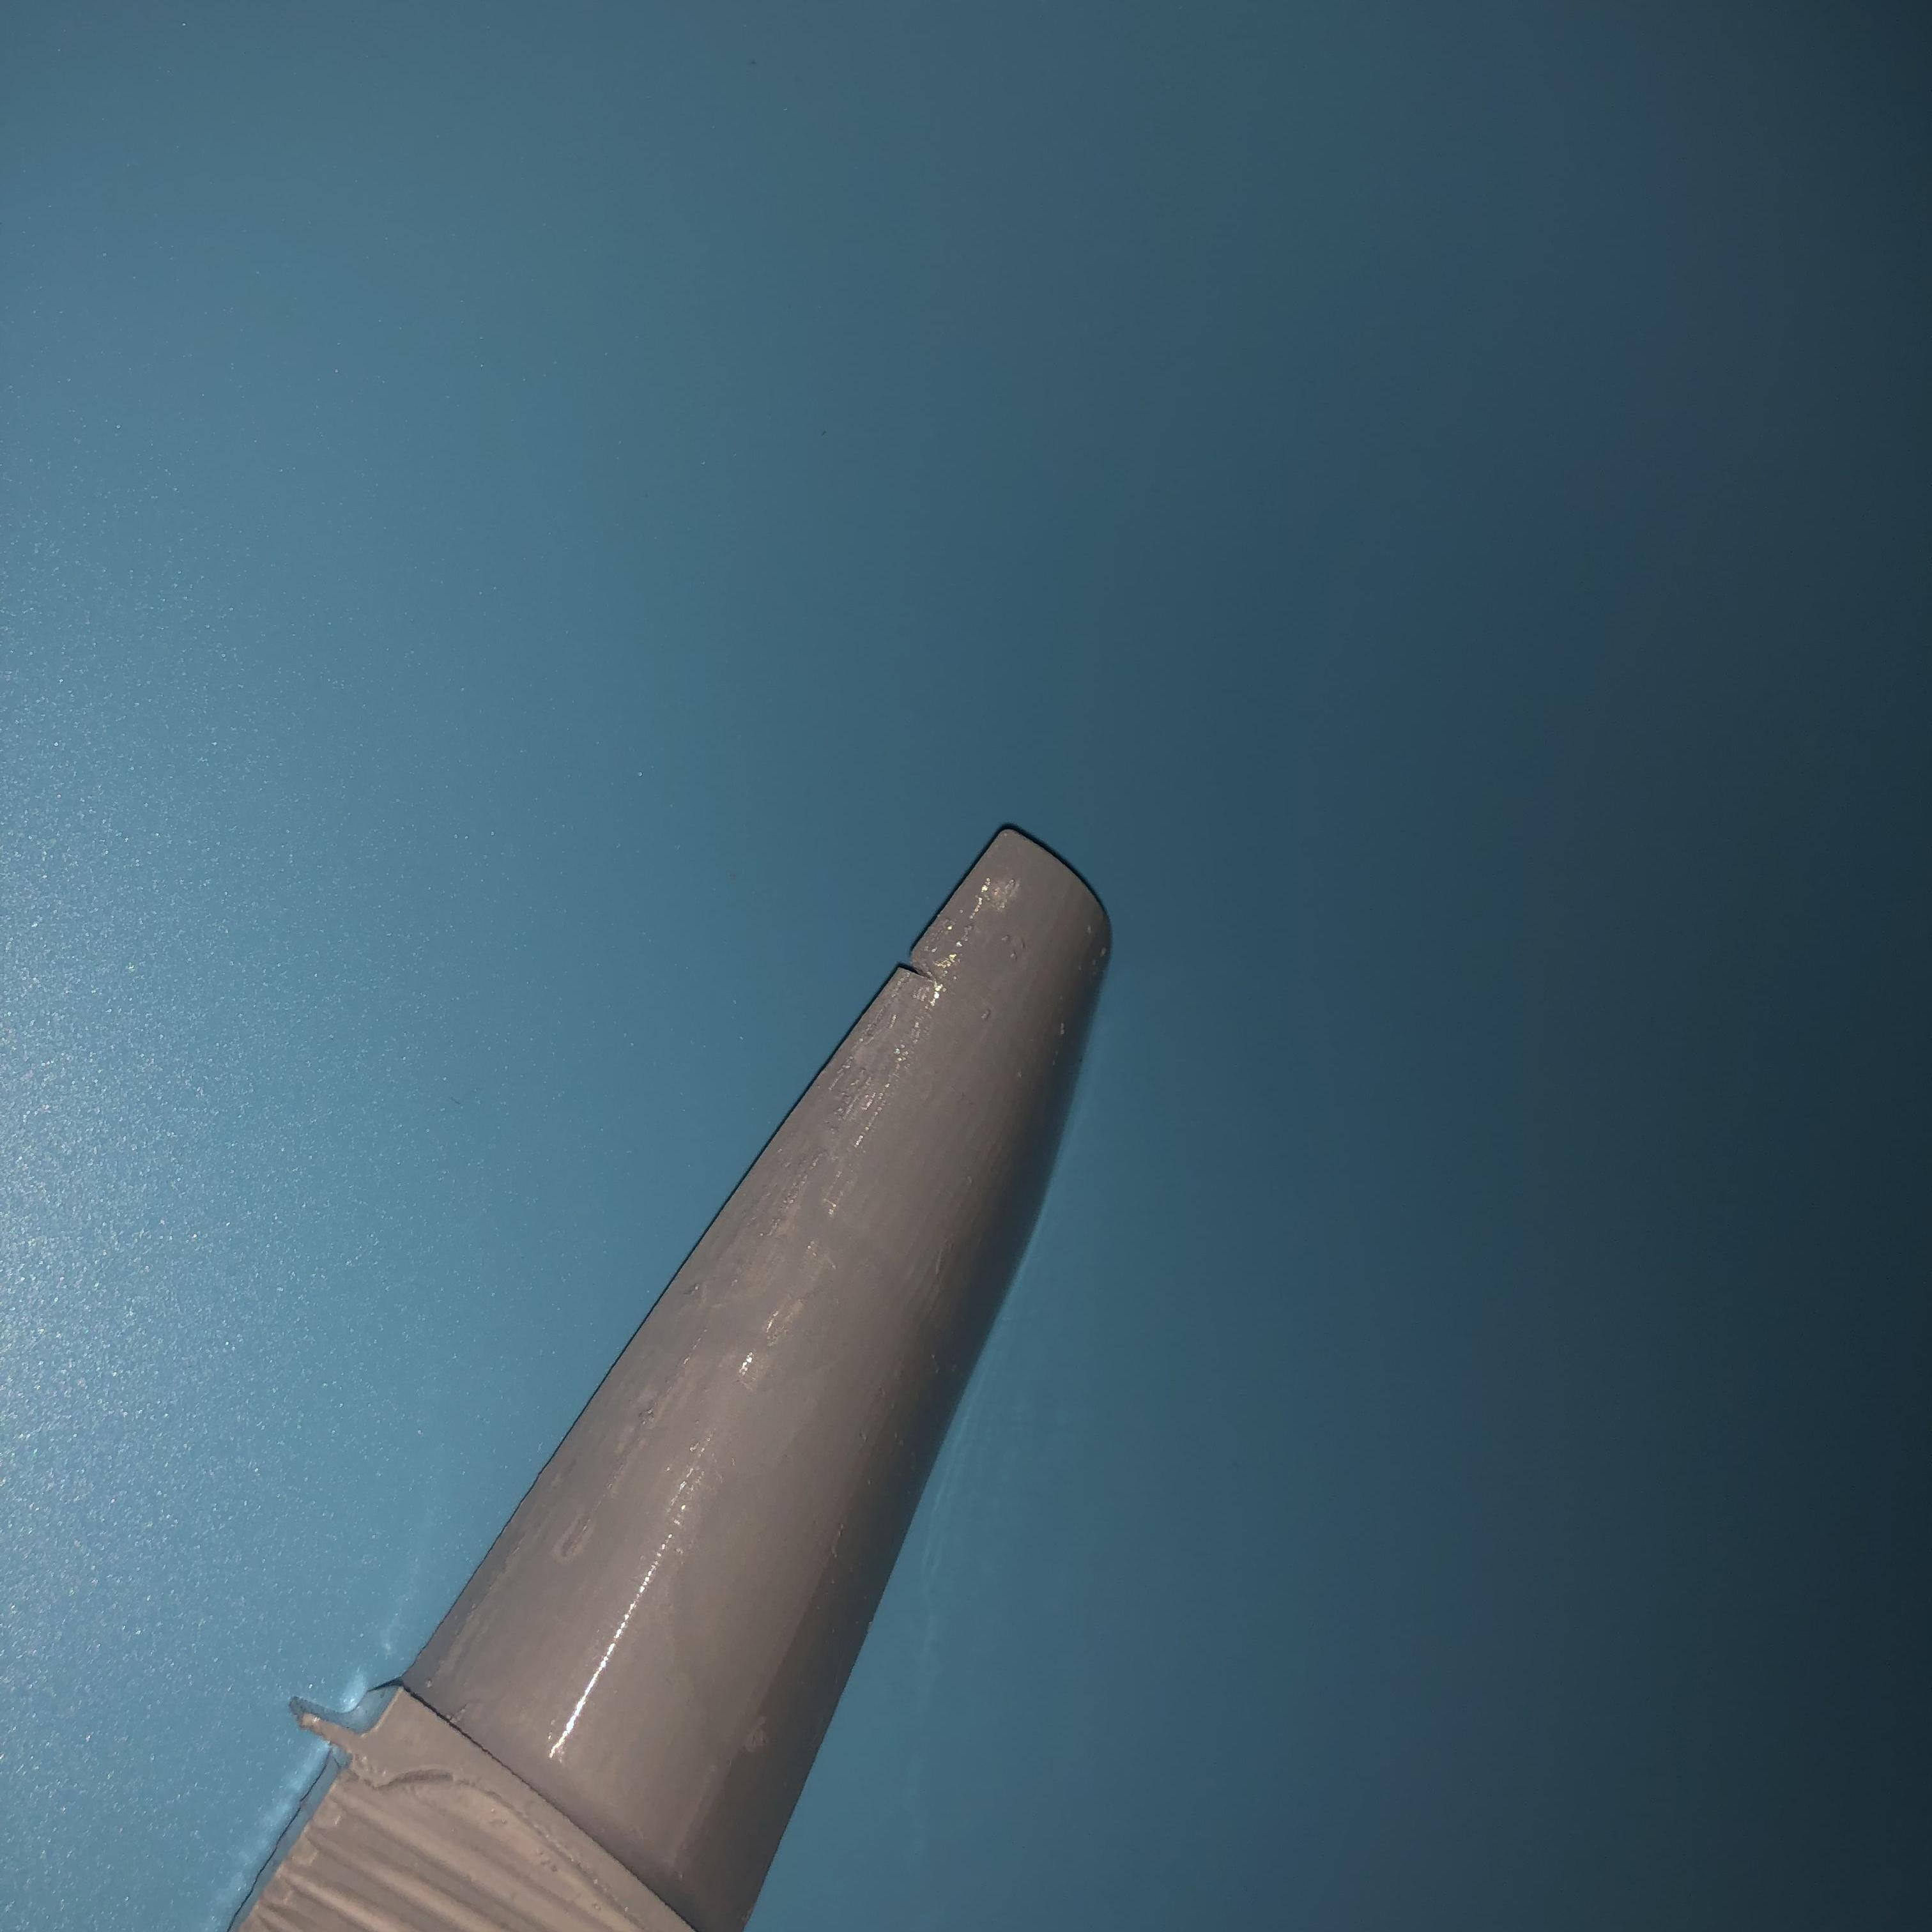groove: (901, 945, 945, 985)
